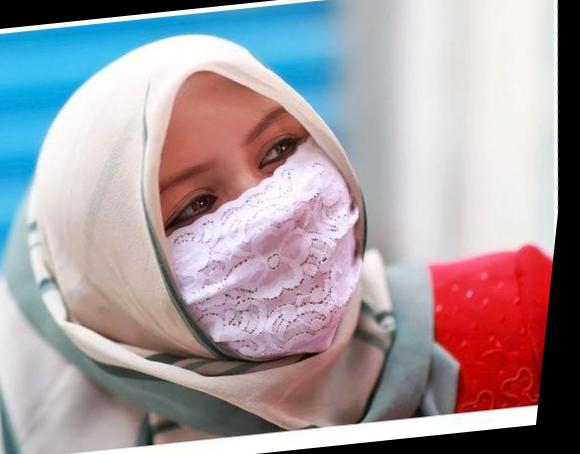WRONG: (129, 90, 387, 376)
